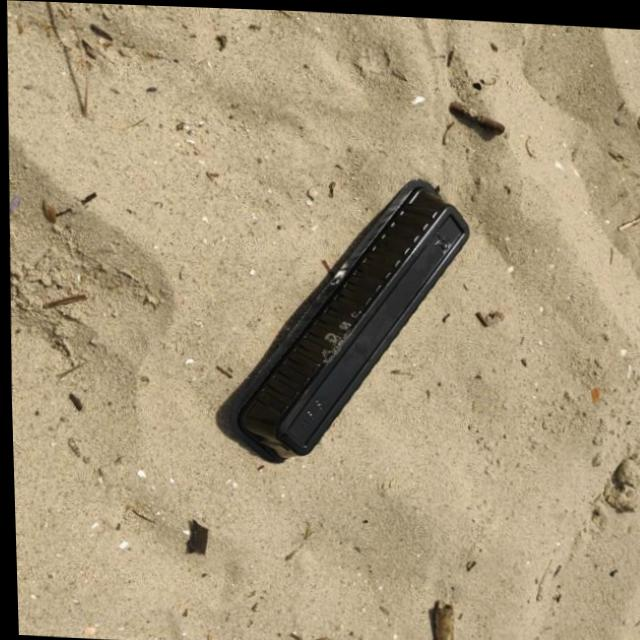Plastic: (216, 165, 475, 473)
